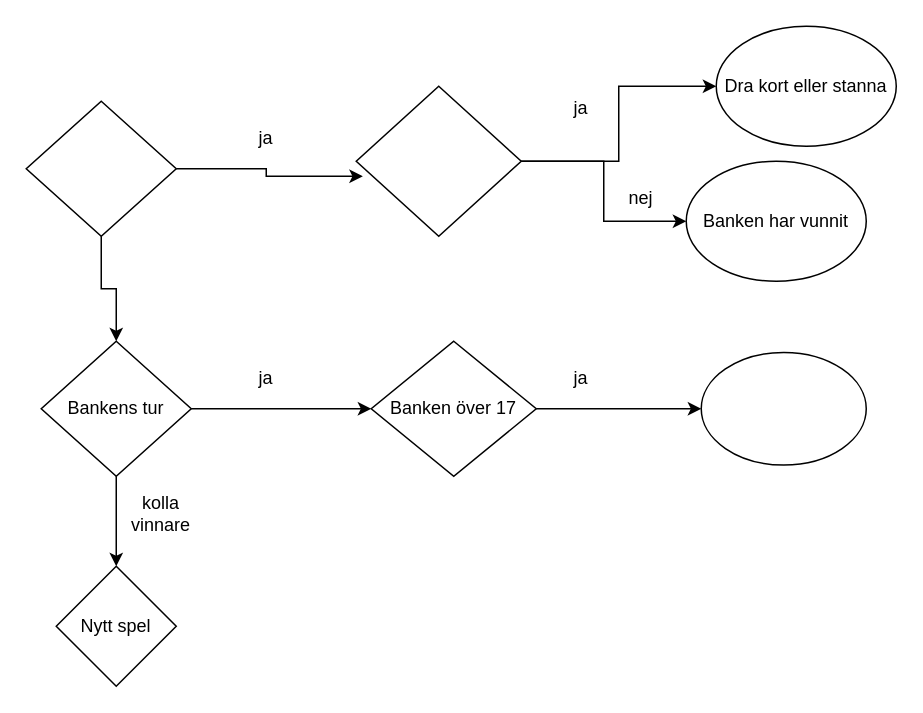
Image size: 923x713. Some labels were removed from this diagram. The shapes that lost their labels are listed below. From the top down, each one's centre as x and y in pixels, then its label:
the point at 100,168: Spelarens tur
the point at 438,160: Handen under 21
the point at 783,408: Dra kort
